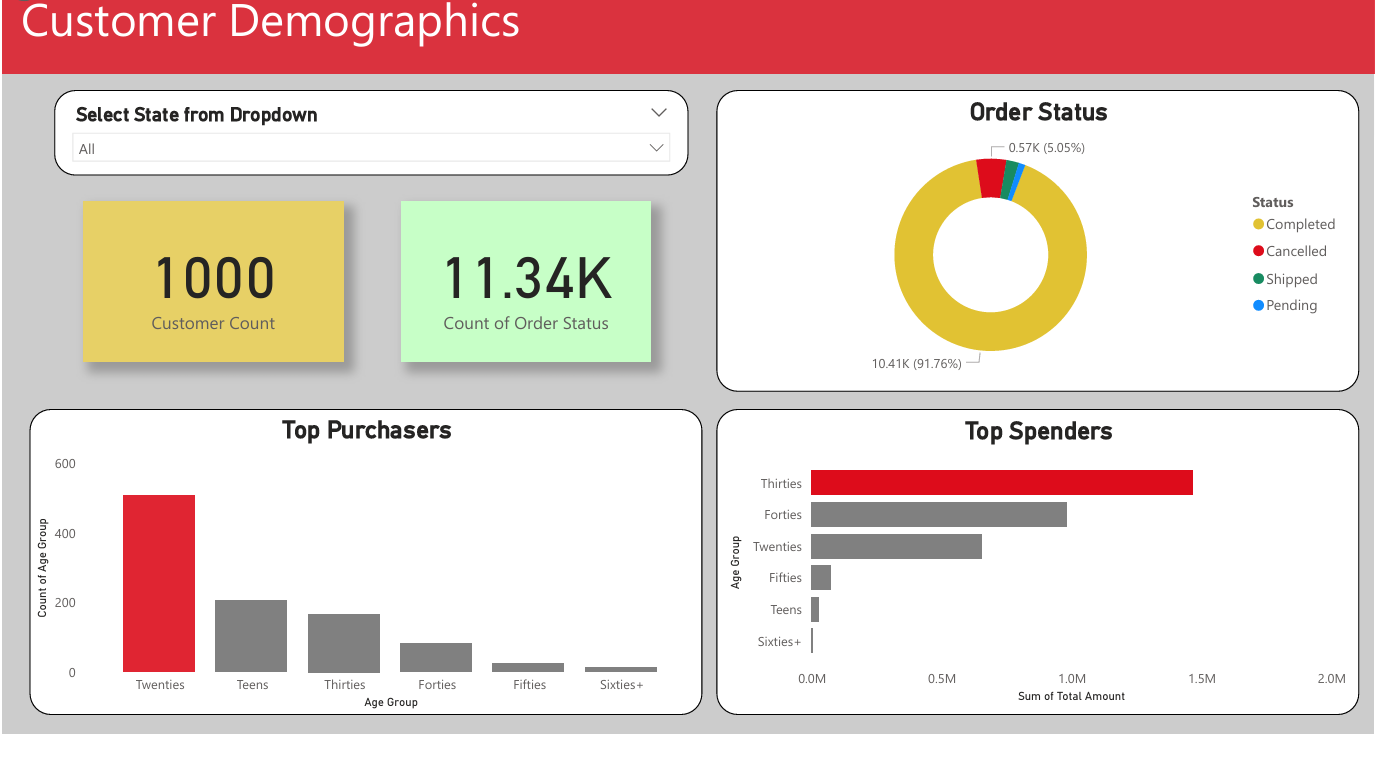

What the dashboard file says about the page in this screenshot:
{"tool":"powerbi","page":{"name":"Demographics","canvas":[1280,720],"ordinal":1},"visuals":[{"type":"card","fields":{"Values":["customer profiles.Customer Count"]},"box":[75,221.7,243.3,150],"z":0},{"type":"clusteredColumnChart","title":"Top Purchasers","fields":{"Category":["customer profiles.Age Group"],"Y":["CountNonNull(customer profiles.Age Group)"]},"box":[24.6,415.9,628.8,286.6],"z":1000},{"type":"clusteredBarChart","title":"Top Spenders","fields":{"Category":["customer profiles.Age Group"],"Y":["Sum(orders.Total Amount)"]},"box":[666.5,415.9,599.3,286.6],"z":2000},{"type":"donutChart","title":"Order Status","fields":{"Category":["orders.Order Status"],"Y":["CountNonNull(orders.Order Status)"]},"box":[666.5,117.9,599.3,281.7],"z":3000},{"type":"slicer","fields":{"Values":["customer profiles.State"]},"box":[48.3,118.3,591.7,80],"z":4000},{"type":"textbox","box":[0,0,1280.5,103.2],"z":5000},{"type":"card","fields":{"Values":["CountNonNull(orders.Order Status)"]},"box":[371.7,221.7,233.3,150],"z":6000},{"type":"actionButton","box":[0,0,100,40],"z":7000}]}

Visuals, with their boxes in screenshot pixels (x1, y1, x2, y2):
card - customer profiles.Customer Count: (77, 198, 338, 359)
"Top Purchasers" clusteredColumnChart: (23, 407, 698, 714)
"Top Spenders" clusteredBarChart: (712, 407, 1356, 714)
"Order Status" donutChart: (712, 87, 1356, 389)
slicer - customer profiles.State: (48, 87, 684, 173)
textbox: (0, 0, 1371, 71)
card - CountNonNull(orders.Order Status): (395, 198, 646, 359)
actionButton: (0, 0, 104, 3)
